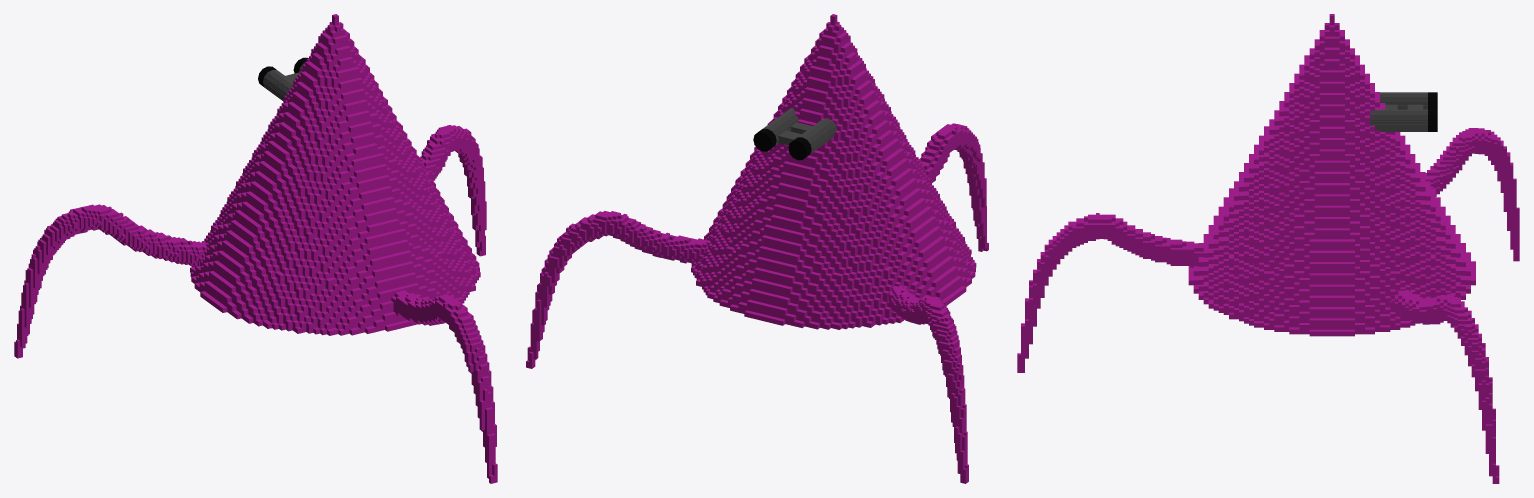
The model's file is alien.legs_blocky.fbx.
The picture shows the model from 3 angles, left to right: view 1: azimuth 30°, elevation 25°; view 2: azimuth 150°, elevation 25°; view 3: azimuth 270°, elevation 25°; orthographic projection. The views are drawn at different scales.
Parts seen in each view (by area): view 1: A_alien.legs.body, A_alien.legs.legL, A_alien.legs.legB, A_alien.legs.legR, A_alien.legs.eyeL; view 2: A_alien.legs.body, A_alien.legs.legR, A_alien.legs.legL, A_alien.legs.legB, A_alien.legs.eyeL, A_alien.legs.eyeR; view 3: A_alien.legs.body, A_alien.legs.legB, A_alien.legs.legR, A_alien.legs.legL, A_alien.legs.eyeR, A_alien.legs.eyeL.
Part boxes in pixels (x1=…): A_alien.legs.body: x1=190, y1=14, x2=480, y2=335; A_alien.legs.legL: x1=14, y1=204, x2=208, y2=358; A_alien.legs.legB: x1=391, y1=290, x2=497, y2=483; A_alien.legs.legR: x1=420, y1=125, x2=486, y2=256; A_alien.legs.eyeL: x1=258, y1=66, x2=293, y2=100; A_alien.legs.body: x1=691, y1=14, x2=976, y2=329; A_alien.legs.legR: x1=526, y1=211, x2=709, y2=368; A_alien.legs.legL: x1=888, y1=284, x2=968, y2=483; A_alien.legs.legB: x1=918, y1=123, x2=988, y2=251; A_alien.legs.eyeL: x1=788, y1=118, x2=838, y2=160; A_alien.legs.eyeR: x1=753, y1=108, x2=798, y2=151; A_alien.legs.body: x1=1188, y1=14, x2=1475, y2=336; A_alien.legs.legB: x1=1017, y1=213, x2=1203, y2=372; A_alien.legs.legR: x1=1391, y1=290, x2=1499, y2=483; A_alien.legs.legL: x1=1425, y1=128, x2=1519, y2=261; A_alien.legs.eyeR: x1=1370, y1=109, x2=1437, y2=131; A_alien.legs.eyeL: x1=1380, y1=92, x2=1437, y2=109.
Bounding box in the file's own units: 366 × 270 × 346.
